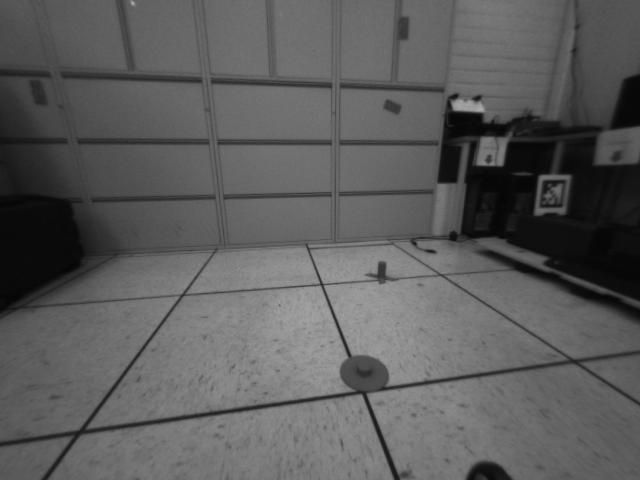X: (365, 262, 397, 283)
